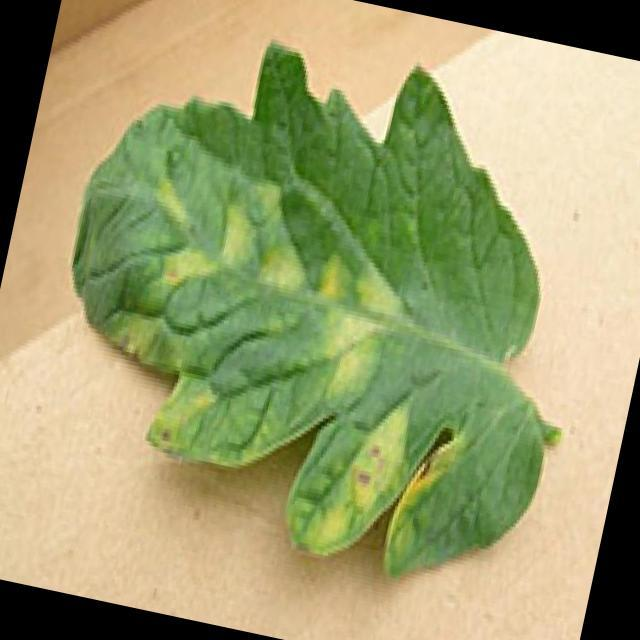Leaf Mold: (60, 122, 580, 586)
